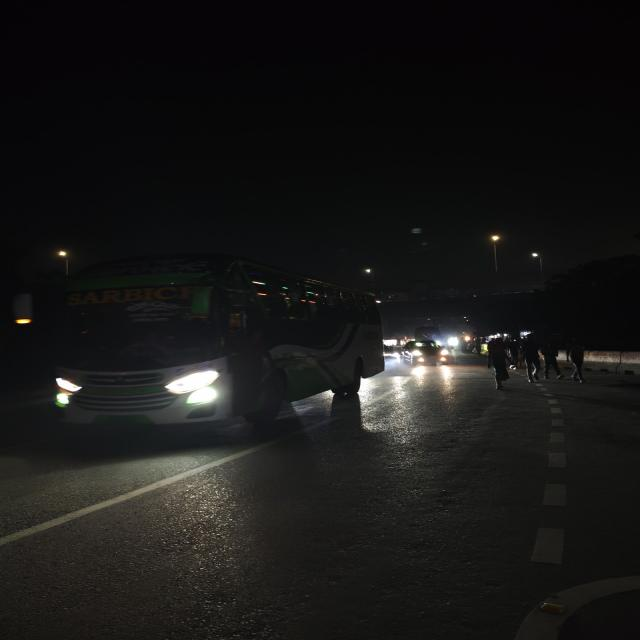bus: (38, 246, 384, 444)
car: (406, 338, 451, 366)
pedestrian: (484, 336, 514, 389), (518, 333, 545, 383), (563, 342, 589, 384), (536, 344, 564, 380), (472, 335, 489, 356)
